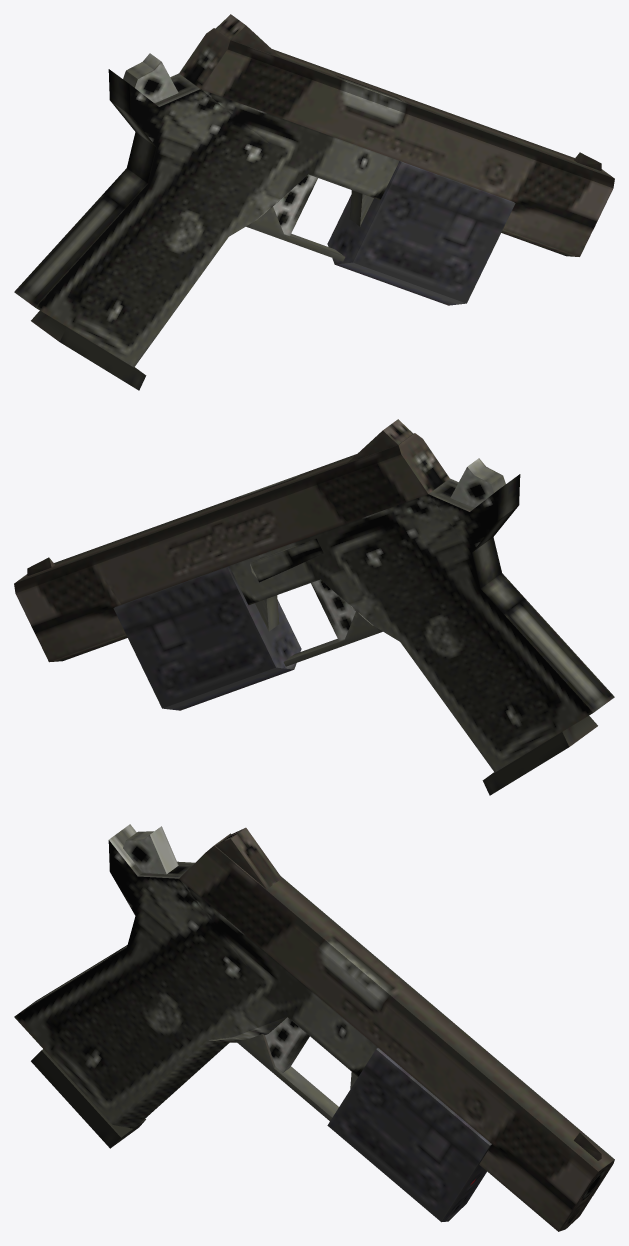
File: wb2_icon.ico.obj
The picture shows the model from 3 angles, top to bottom: view 1: azimuth 30°, elevation 25°; view 2: azimuth 150°, elevation 25°; view 3: azimuth 330°, elevation 25°; orthographic projection.
Bounding box in the file's own units: 4.73 × 2.62 × 0.4075.
Materials: 1 (1 with a texture image).
